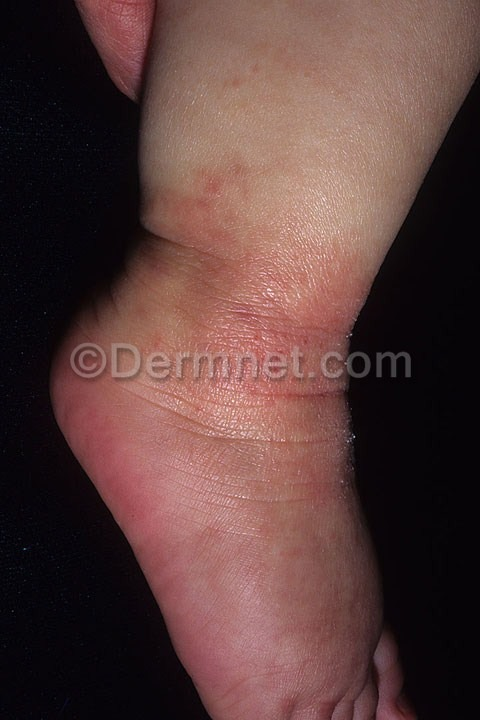Eczema: (158, 161, 387, 705)
